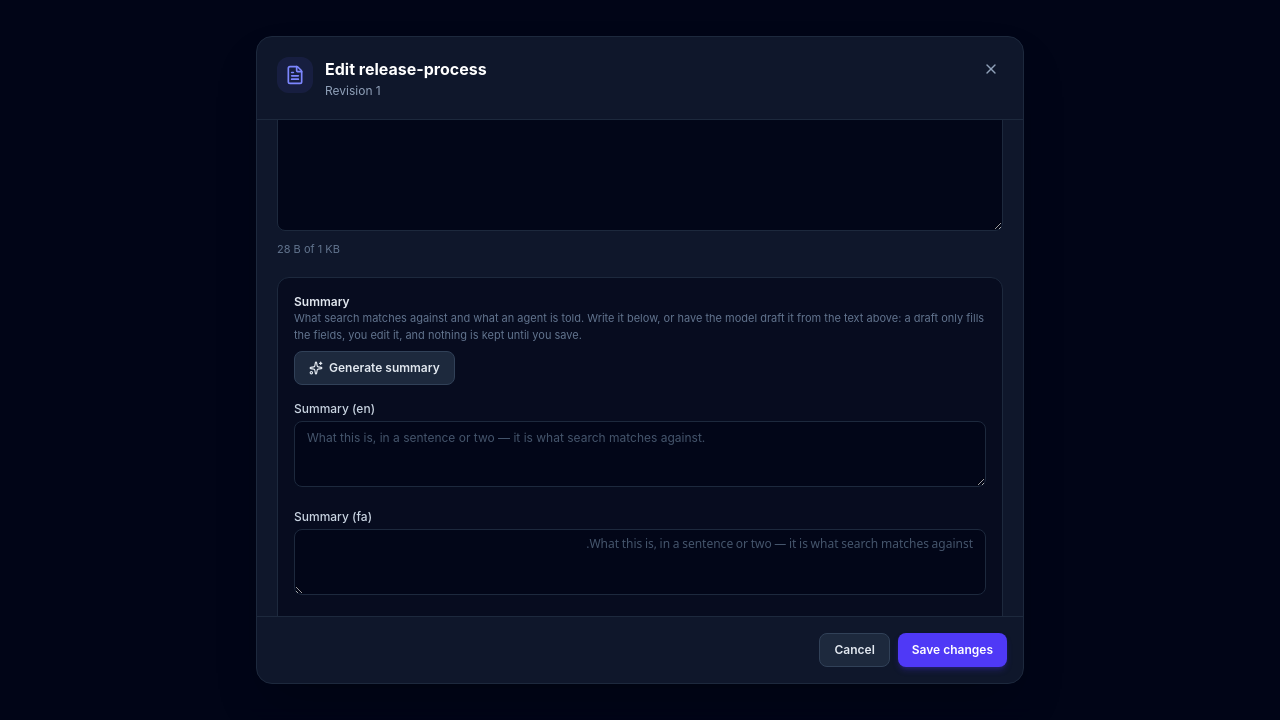
Test case: FormEditorModal › a draft the model could not make is reported, not applied
The width and height of the screenshot is (1280, 720).
(page scrolled)
Click the button "Generate summary" at (374, 368), box [294,351,455,385]
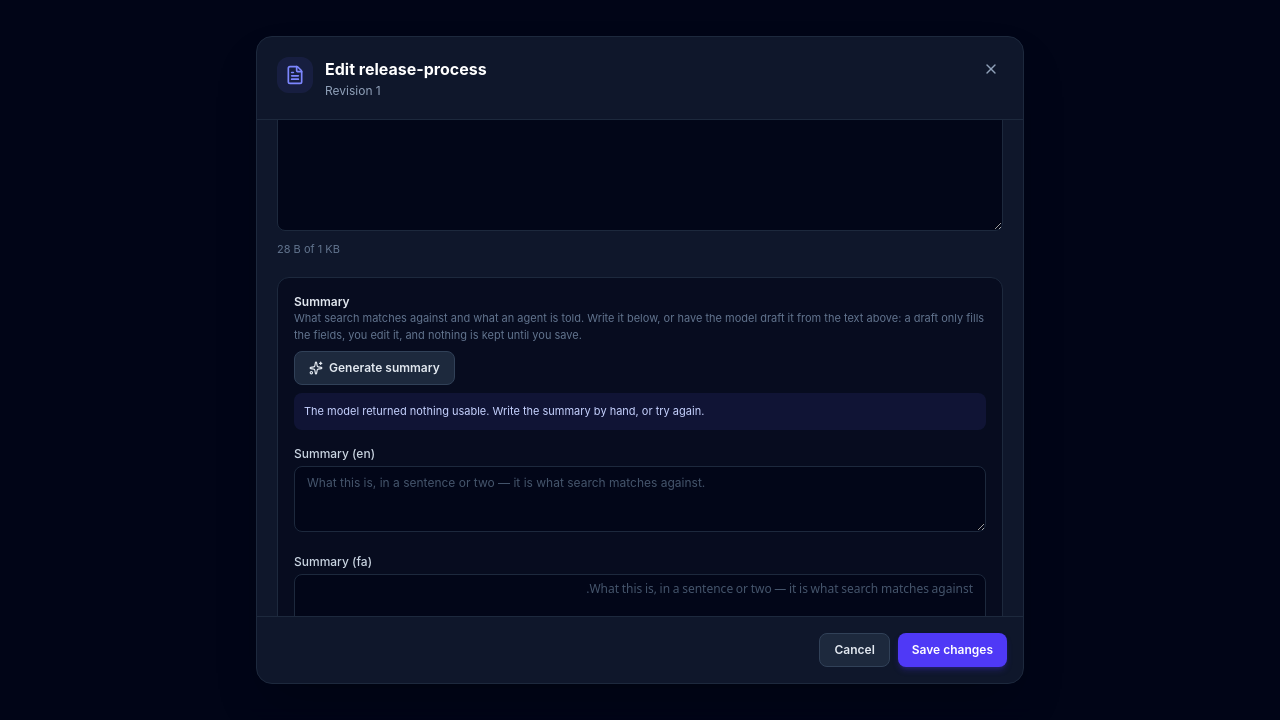
Expected: the text box labelled "Summary (en)" is empty, [294,466,986,532]
Now the message shows "nothing usable", box [304,404,704,418]
